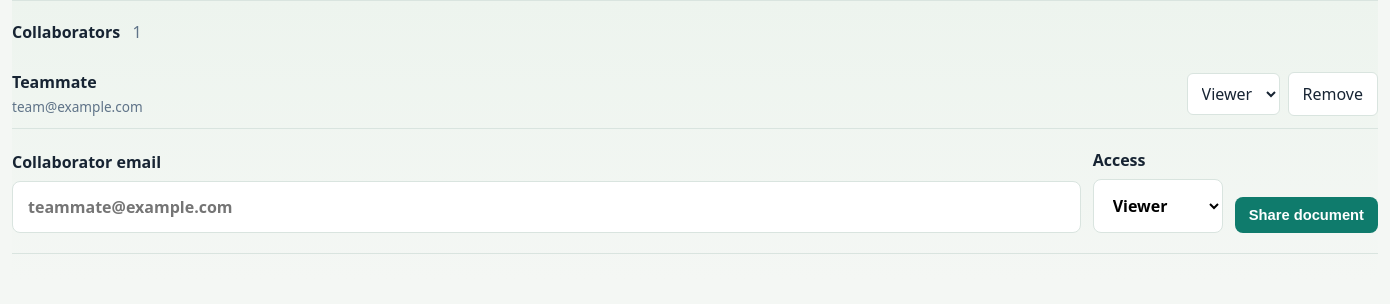
Scenario: invites with normalized email and viewer access by default
In the field labelled "Collaborator email": (546, 207) [12,181,1081,233], type "NEW@example.com"
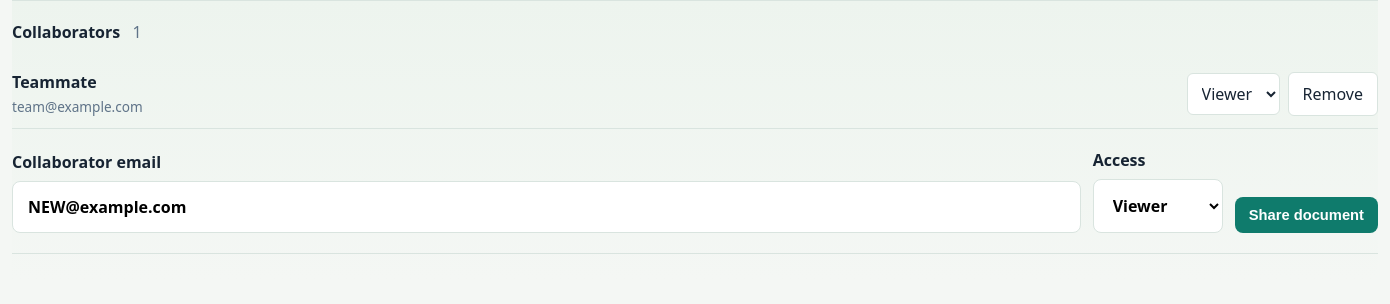
Click the button "Share document": (1306, 215) [1235,197,1378,233]
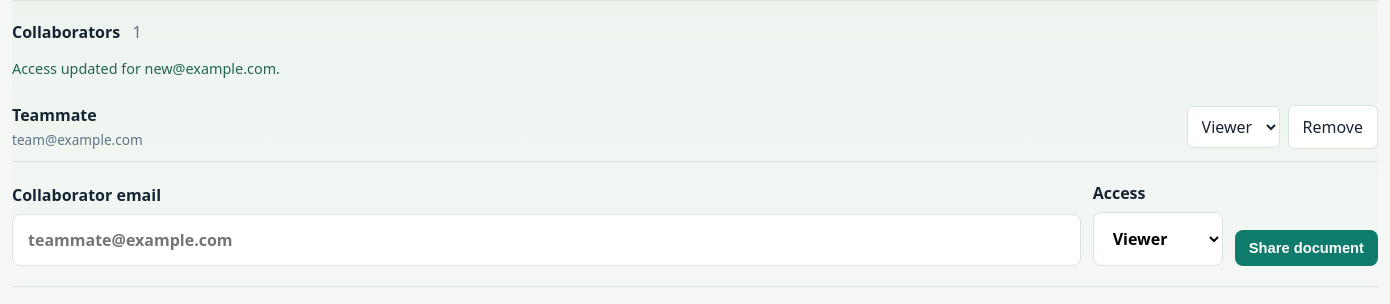
Expected: the message "Access updated for new@example.com." is shown, [12,59,280,78]
Expected: the field labelled "Collaborator email" is empty, [12,214,1081,266]
